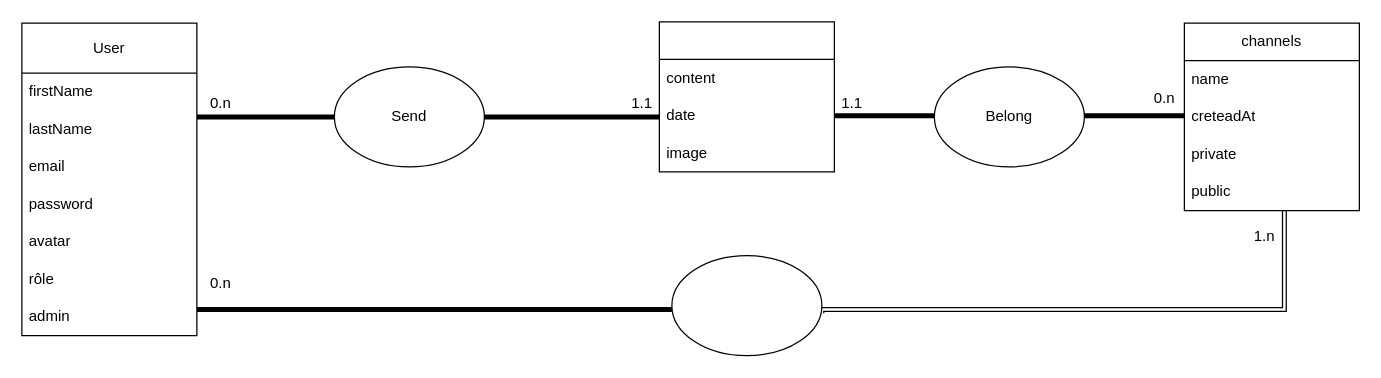
The diagram is 1381 pixels wide and 378 high, and some of its shapes have lost their labels. Here are the shapes that lost their labels. From the top down, the box of each, then its label:
(658, 21, 834, 172): messages
(671, 254, 822, 356): Join
